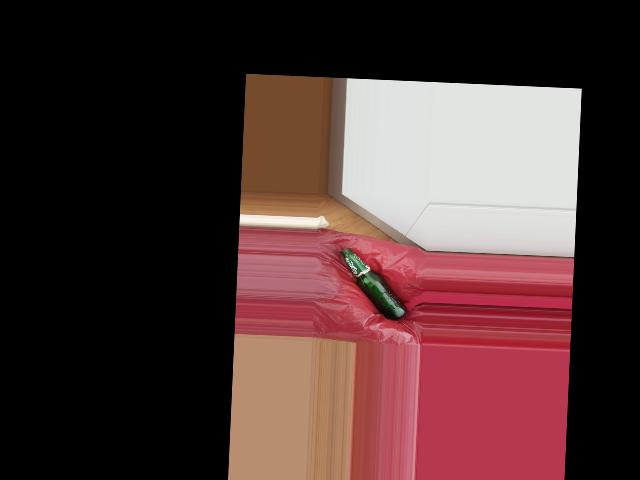beer: (336, 247, 408, 320)
